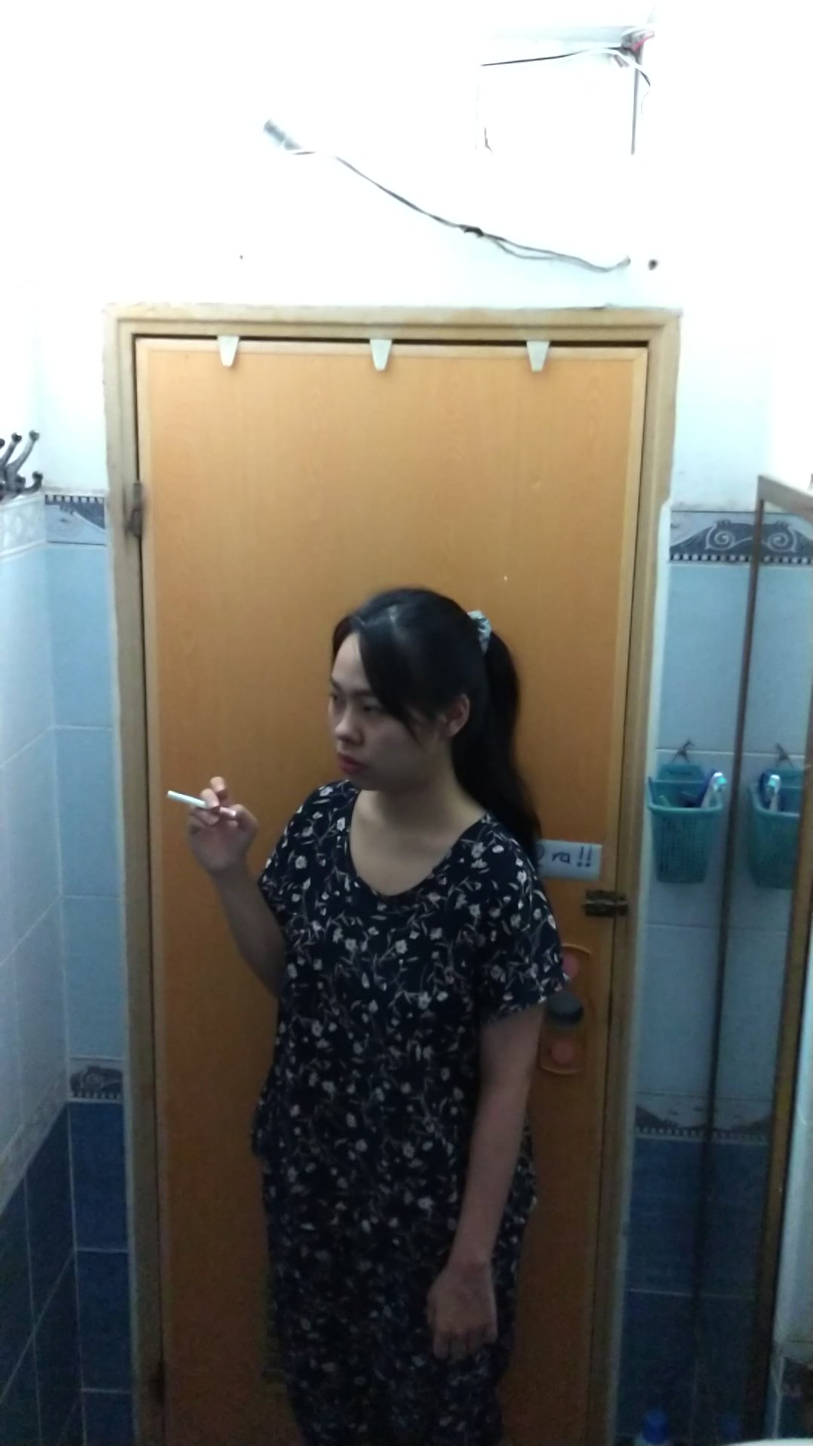cigarette: (160, 788, 208, 811)
person: (181, 576, 589, 1444)
